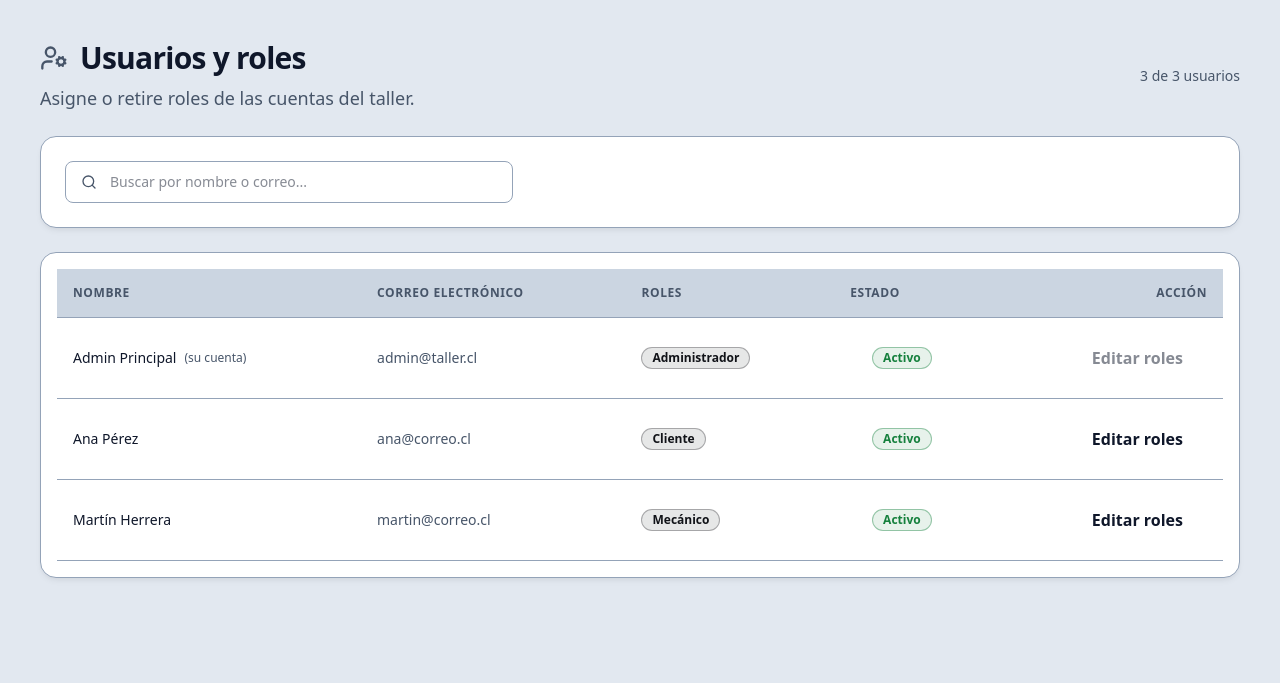
Test: AdminUsersPage: gestión de roles de las cuentas › advierte y pide confirmación antes de dejar una cuenta sin roles
expect the text "Martín Herrera" is shown: met, box [73,510,171,529]
What coordinates should you click on to do the following:
click the button "Editar roles" in the row of "Martín Herrera"
I would click on:
 (1137, 520)
Its box is [1068,496,1207,544].
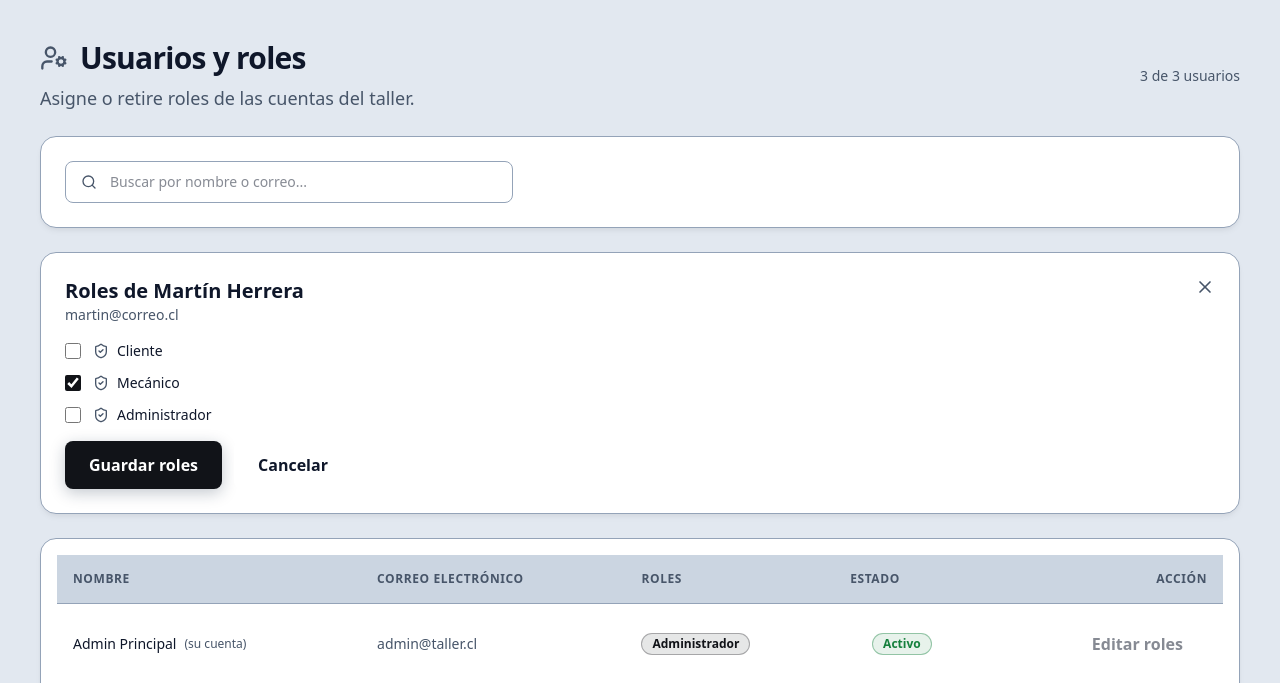
What coordinates should you click on to do the following:
click the checkbox labelled "Mecánico"
I would click on:
 (73, 383)
Its box is [65,375,81,391].
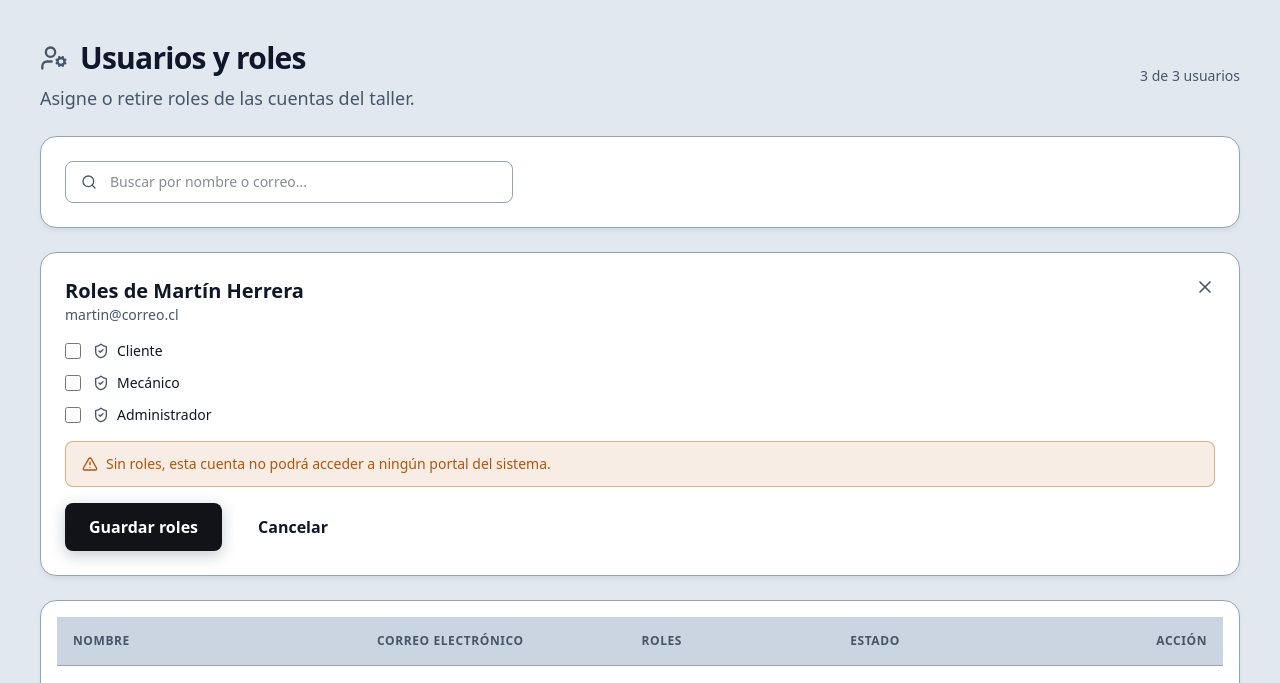
expect the text "Sin roles, esta cuenta no podrá acceder a ningún portal del sistema." is shown: met, box [106,454,551,474]
What coordinates should you click on to do the following:
click the button "Guardar roles"
I would click on:
 (144, 527)
Its box is [65,503,222,551].
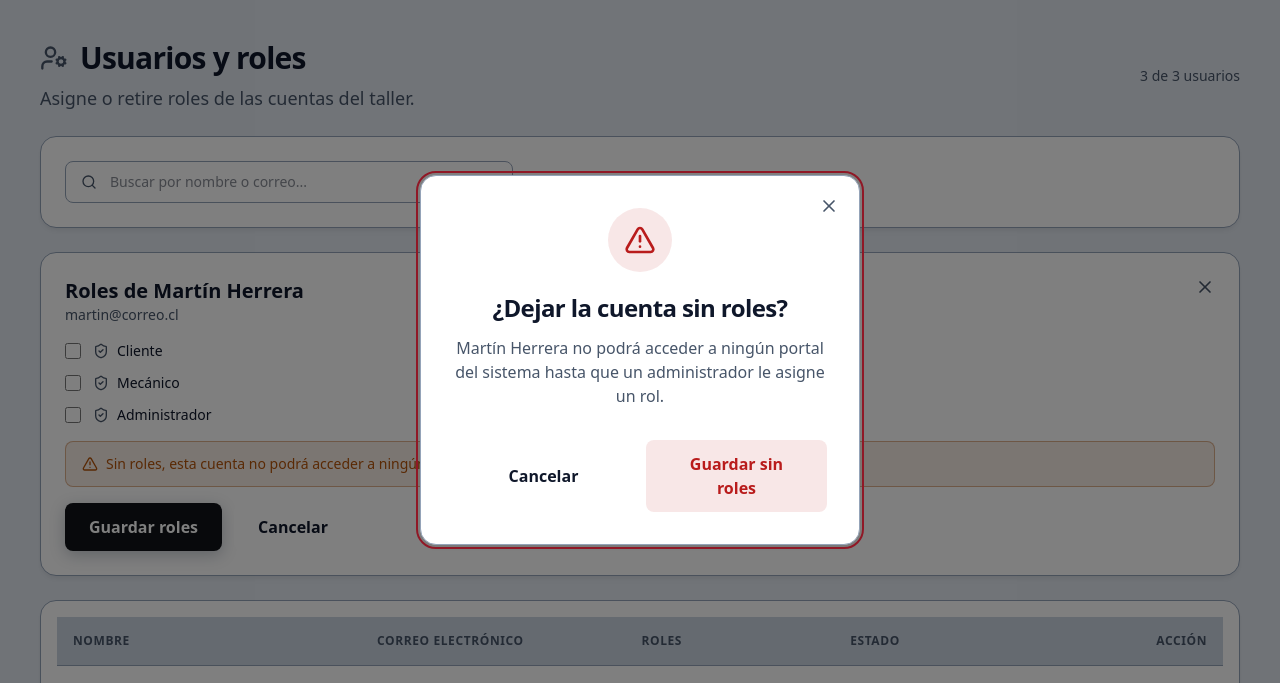
expect the text "no podrá acceder a ningún portal del sistema hasta que un administrador" is shown: met, box [455,337,825,407]
What coordinates should you click on to do the following:
click the button "Guardar sin roles"
I would click on:
 (736, 476)
Its box is [646,440,827,512].
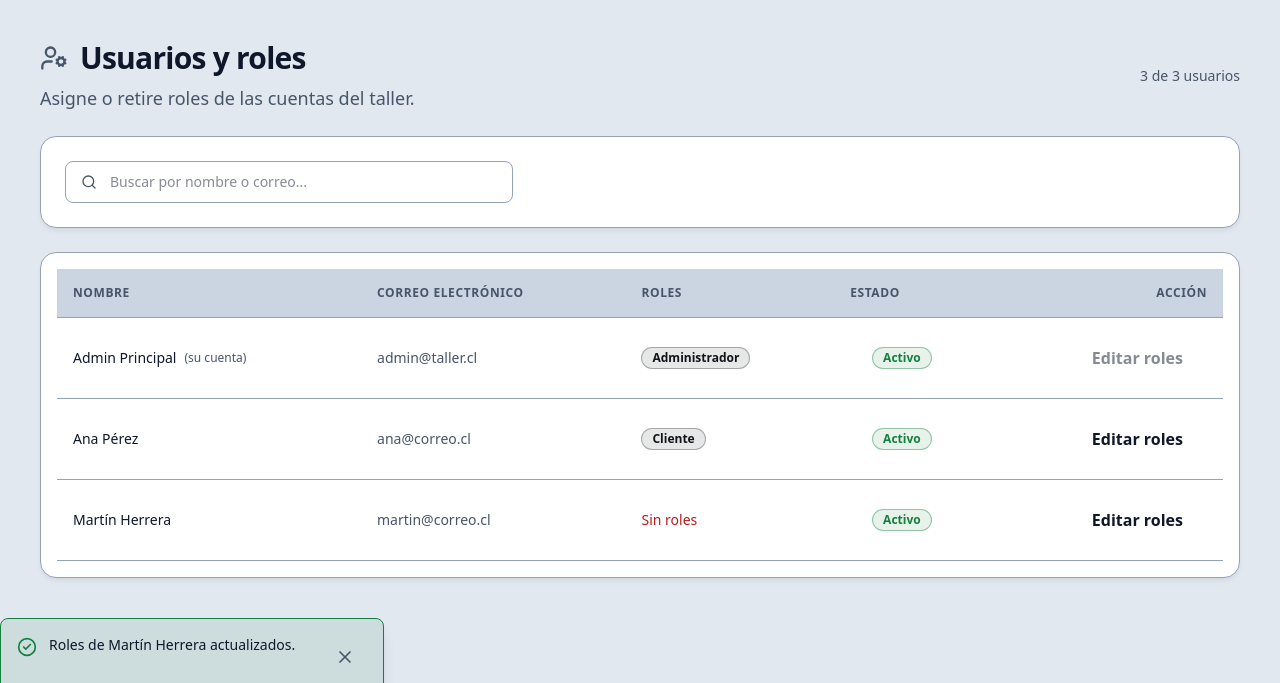
expect the text "Sin roles" is shown: met, box [642,510,697,529]
